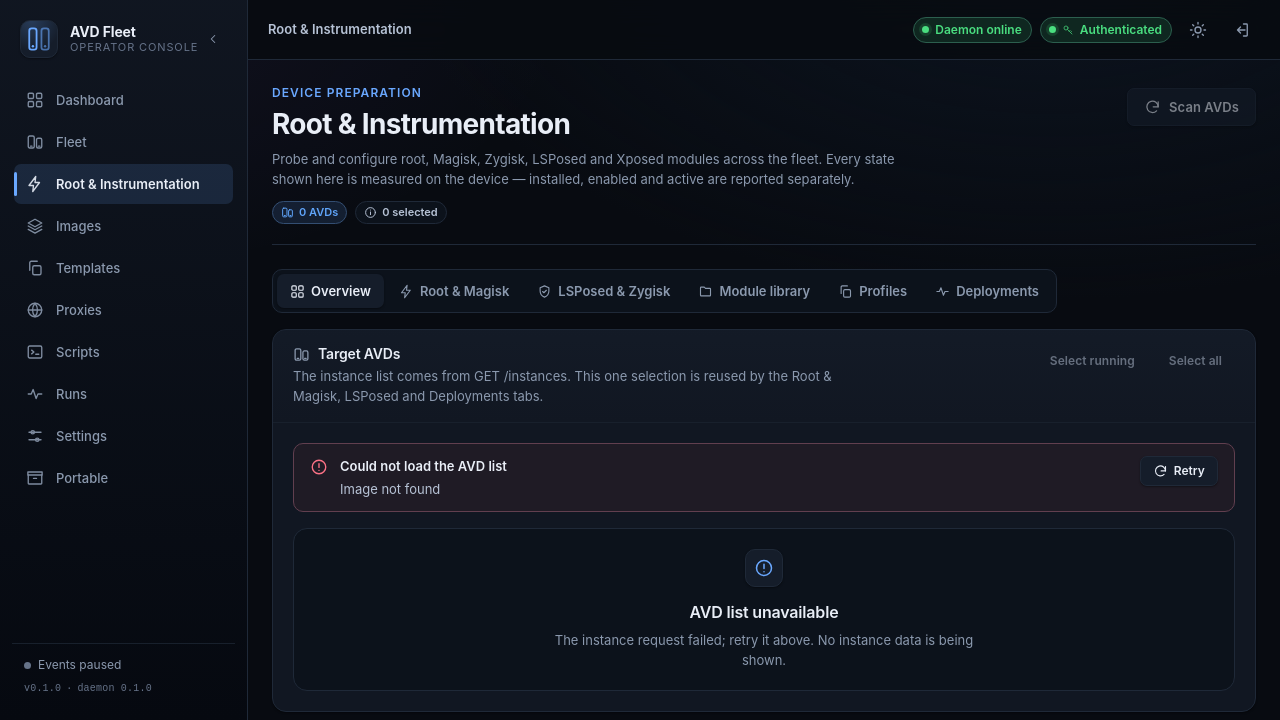
Test case: Root & Instrumentation page › shows skipped targets separately from failed ones and renders the run log
Expected: the heading "Root & Instrumentation" is shown, left=272, top=108, right=570, bottom=141
Step 1. Click the tab "Deployments" → (987, 291), box left=922, top=274, right=1052, bottom=308
(page scrolled)
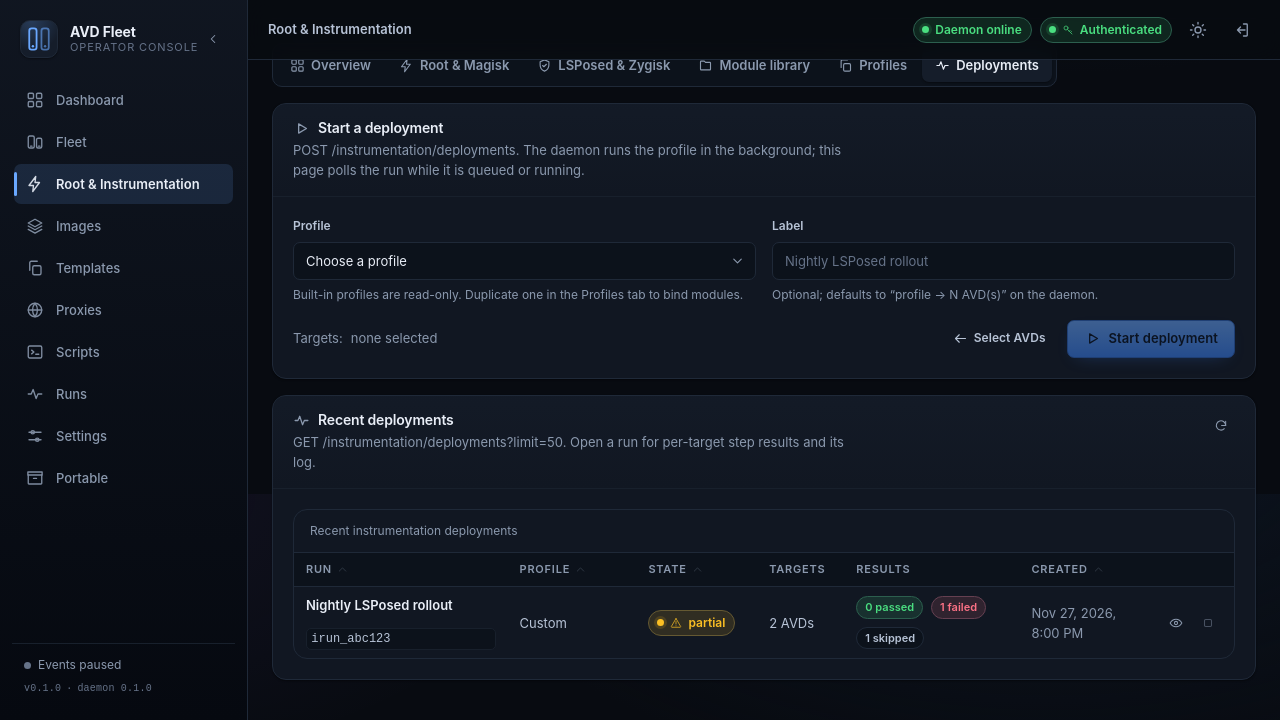
Step 2. Click the button named "Open run Nightly LSPosed rollout" → (1176, 623), box left=1162, top=609, right=1190, bottom=637
(page scrolled)
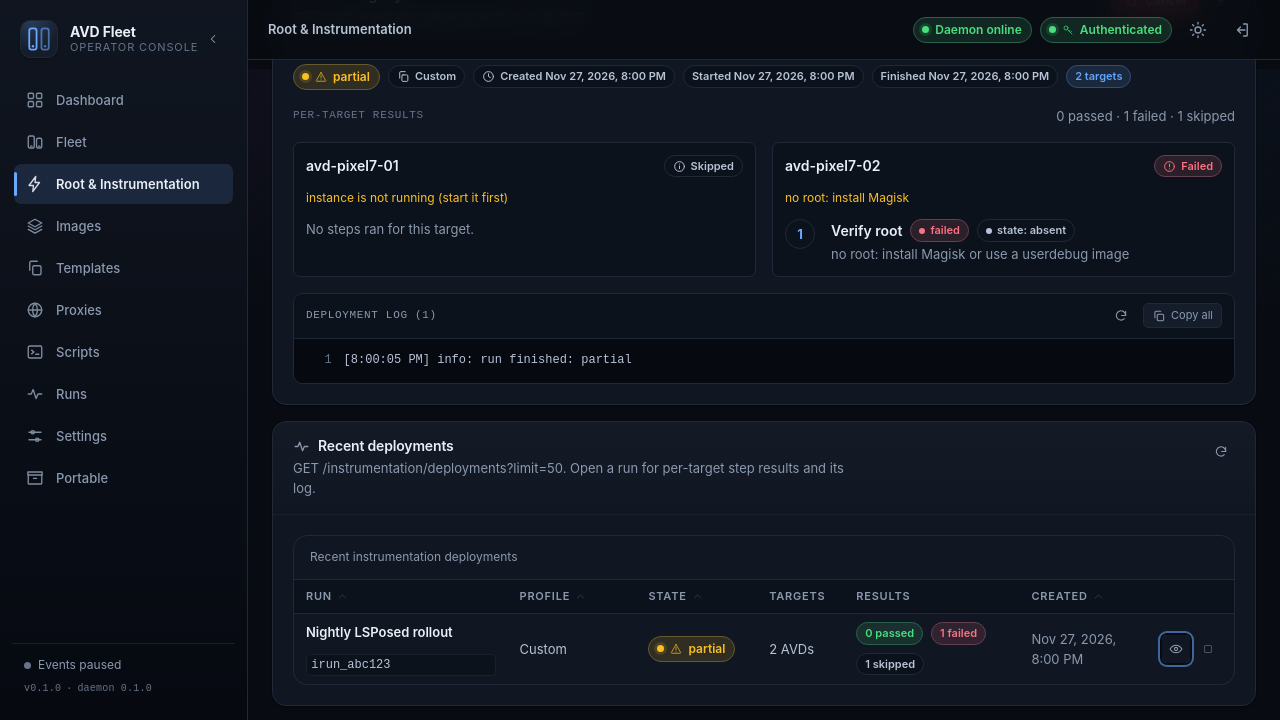
Now the text "0 passed · 1 failed · 1 skipped" is shown, box left=1056, top=106, right=1235, bottom=126
Now the text "Skipped" is shown, box left=691, top=158, right=734, bottom=174
Now the text "Failed" is shown, box left=1181, top=158, right=1213, bottom=174
